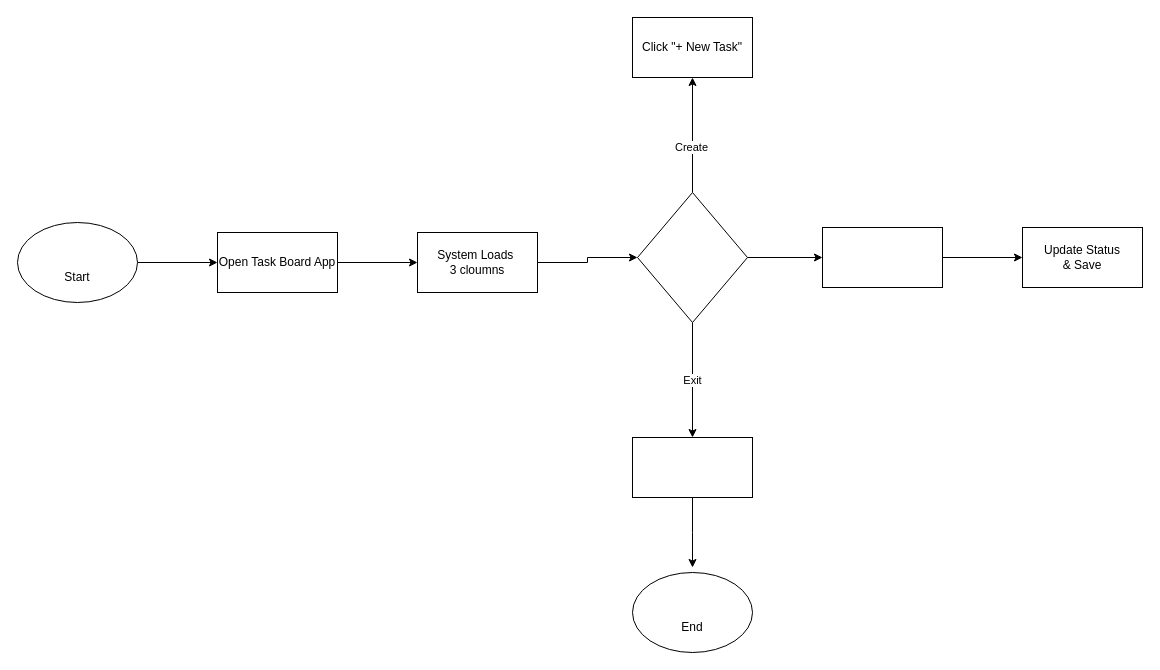
Image size: 1160x670. Some labels were removed from this diagram. Each missing label, with the centre of its shape:
"Close Application" goes at (692,467).
"Drag Task Card to Target Column" goes at (882,257).
"User Action" goes at (692,257).
